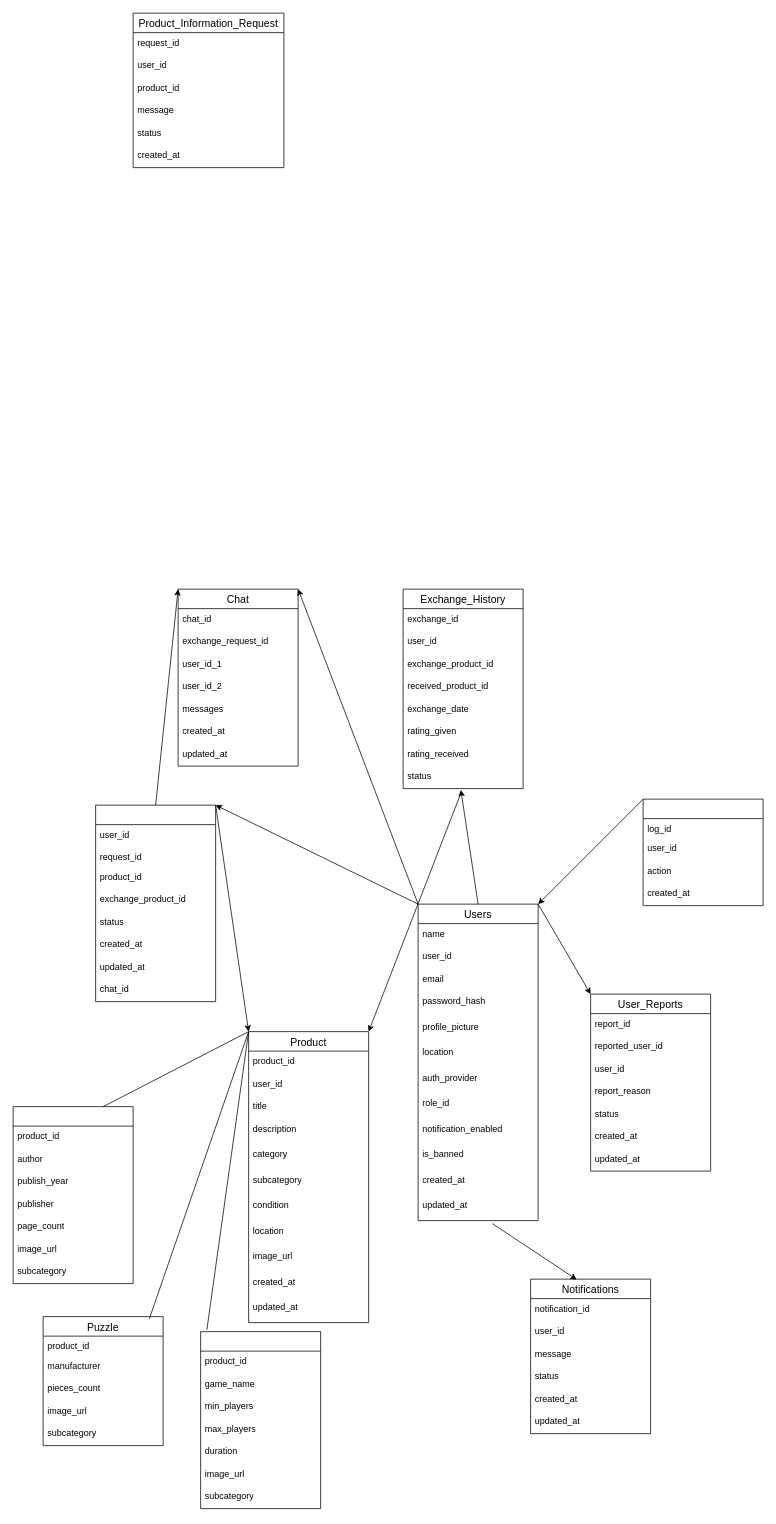
This 776x1524 diagram has some shape labels left out. Each missing label, with the box of its shape:
Audit Logs: (642, 798, 763, 906)
Board Game: (200, 1331, 321, 1509)
Book: (12, 1106, 133, 1284)
Exchange_Request: (95, 804, 216, 1002)
